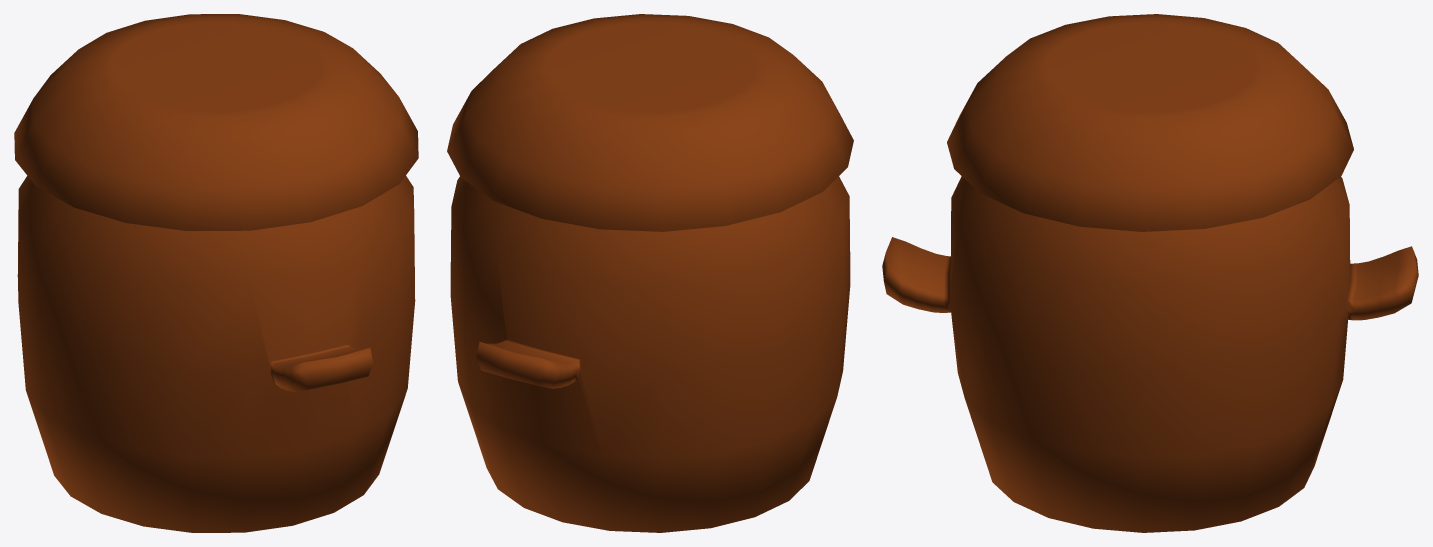
File: Eden_Jar.fbx
3 renders of one model, left to right at view 1: azimuth 30°, elevation 25°; view 2: azimuth 150°, elevation 25°; view 3: azimuth 270°, elevation 25°, orthographic.
Parts seen in each view (by area): view 1: pCylinder3; view 2: pCylinder3; view 3: pCylinder3.
Boxes of the visible parts, <box> form: pCylinder3: <box>14,14,418,532</box>; pCylinder3: <box>447,14,853,532</box>; pCylinder3: <box>882,14,1418,532</box>.
Bounding box in the file's own units: 0.0274 × 0.0294 × 0.0361.
Materials: 1 (1 with a texture image).
